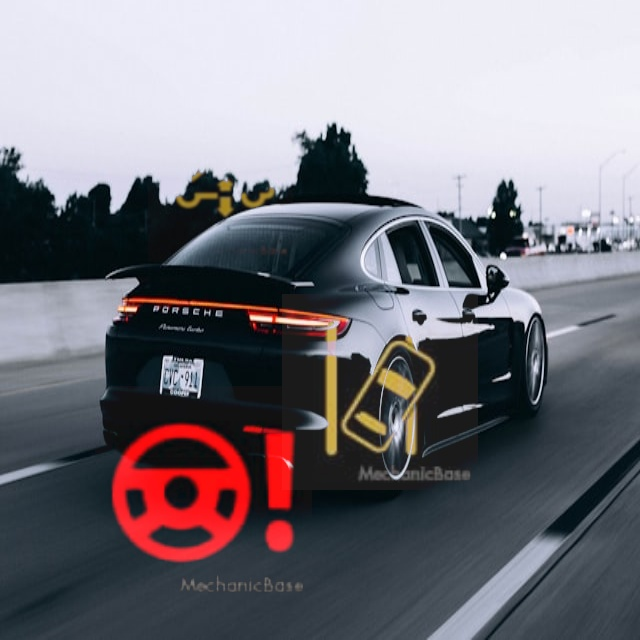symbol: (95, 386, 312, 603), (282, 294, 478, 490), (148, 117, 293, 262)
